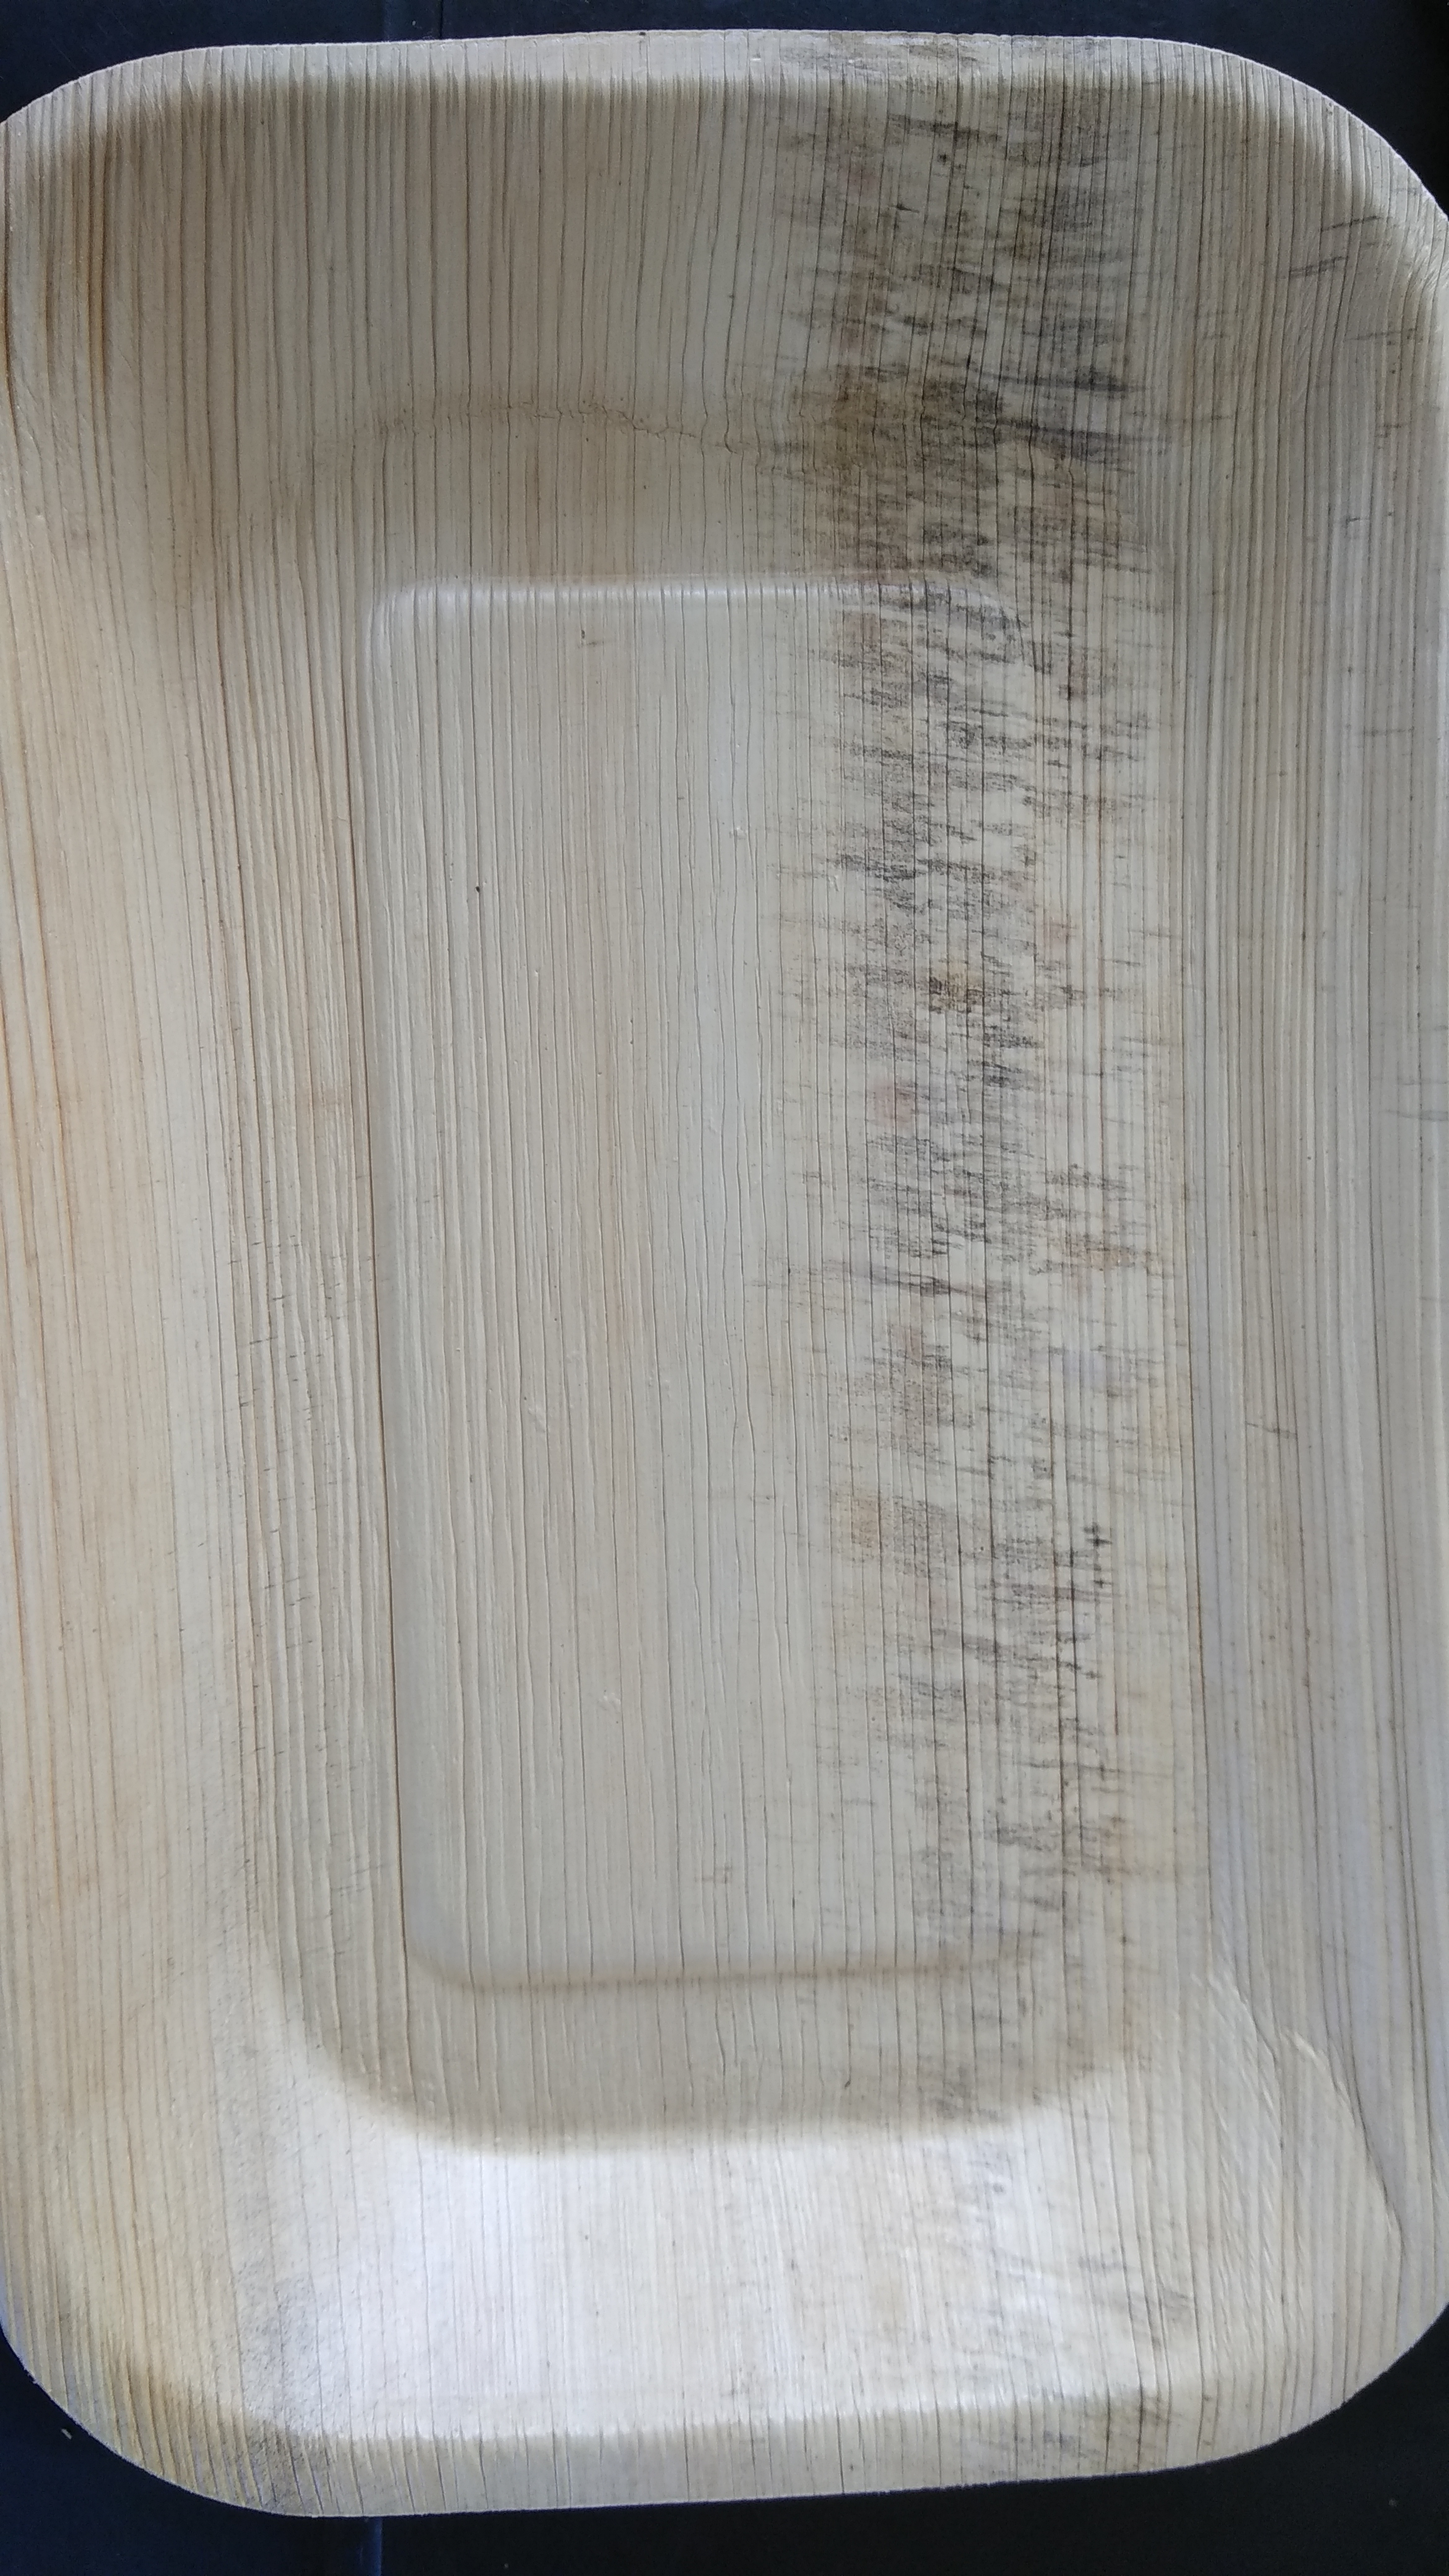areca plate: (12, 16, 1437, 2498)
